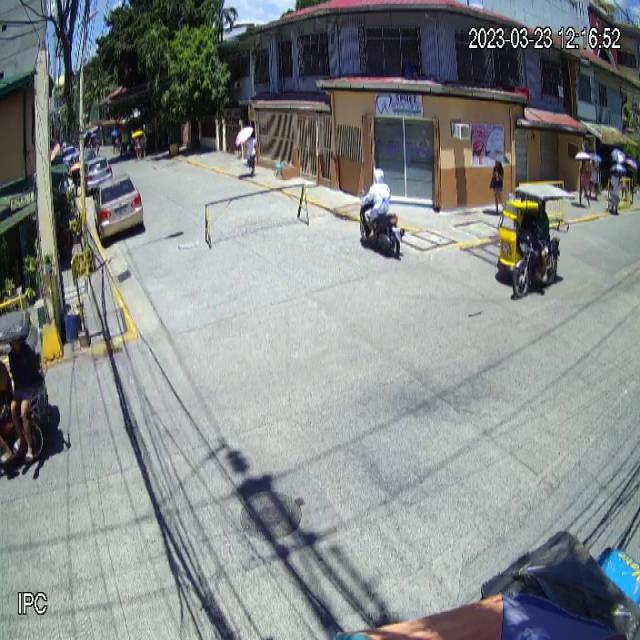Tricycle: (496, 181, 575, 299)
